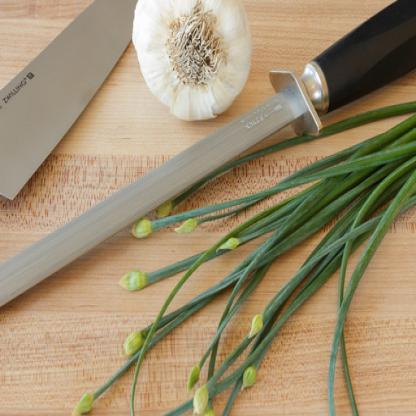knife: (0, 0, 415, 415), (0, 0, 152, 347)
